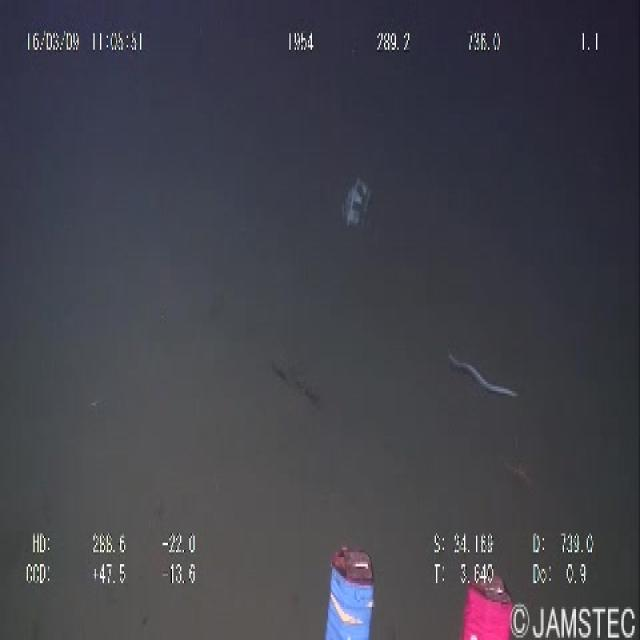plastic: (329, 154, 384, 244)
